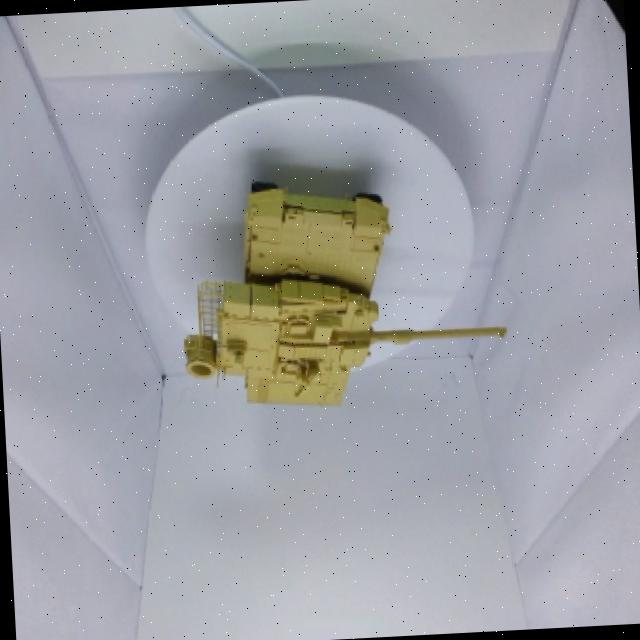korea tank: (142, 141, 536, 456)
